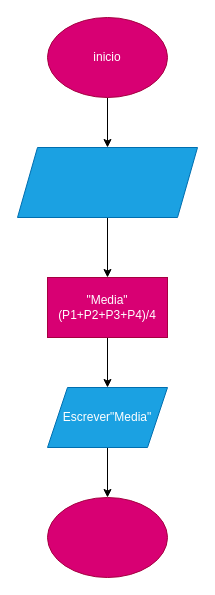
This 215x595 diagram has some shape labels left out. Here are the shapes that lost their labels. From the top down, the box of each, then its label:
(16, 146, 198, 218): ler P1,P2,P3,P4
(46, 496, 168, 578): Fim
